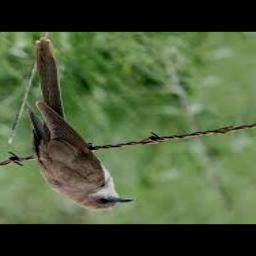Cuckoo: (29, 36, 135, 211)
